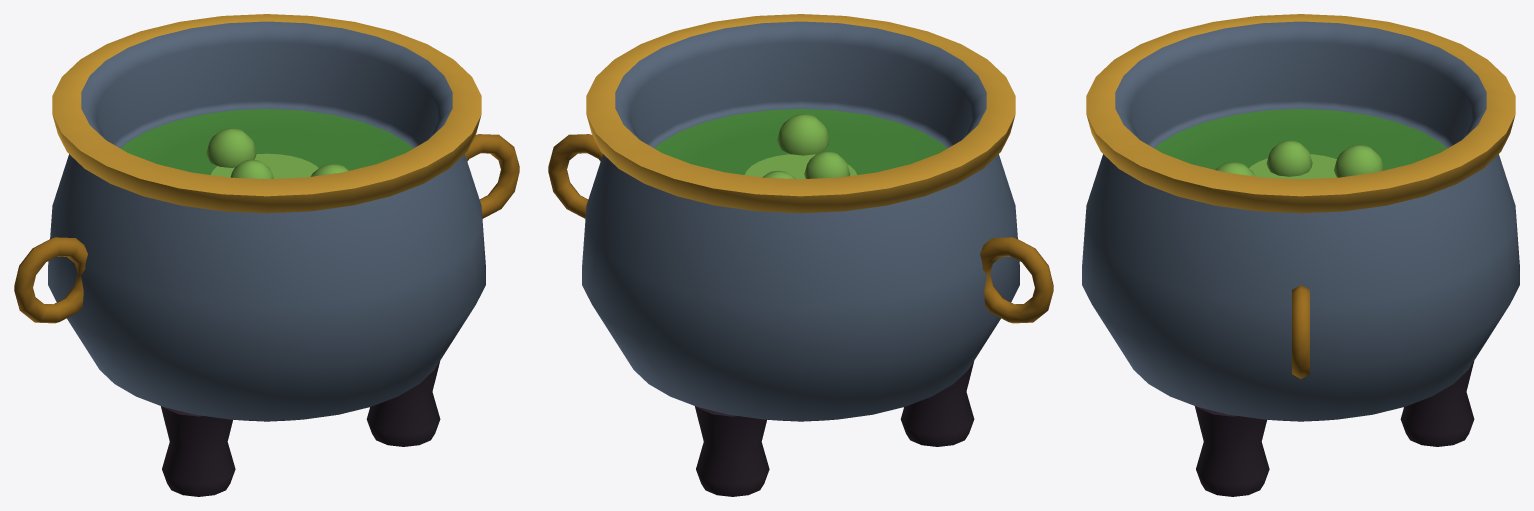
The model's file is Cauldron_12.glb.
The picture shows the model from 3 angles, left to right: view 1: azimuth 30°, elevation 25°; view 2: azimuth 150°, elevation 25°; view 3: azimuth 270°, elevation 25°; orthographic projection.
Parts seen in each view (by area): view 1: Cauldron_12; view 2: Cauldron_12; view 3: Cauldron_12.
Part boxes in pixels (x1=…): Cauldron_12: x1=14, y1=14, x2=519, y2=496; Cauldron_12: x1=548, y1=14, x2=1053, y2=496; Cauldron_12: x1=1082, y1=14, x2=1519, y2=496.
Size of the model in its own units: 4.42 by 2.78 by 3.31.
